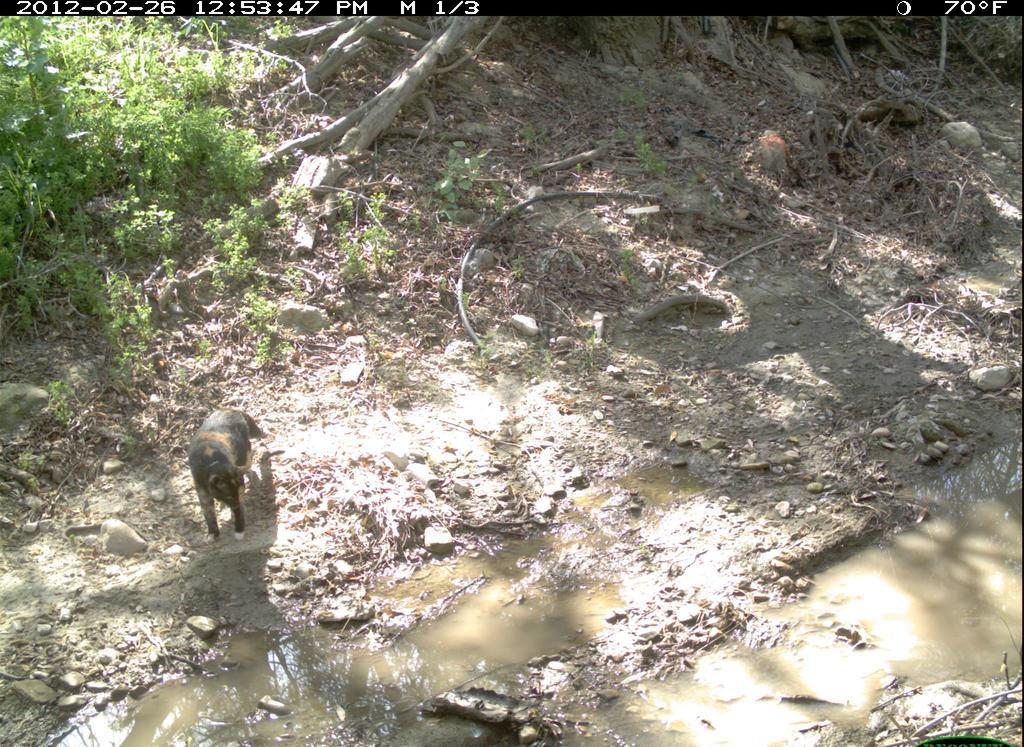cat: (183, 402, 273, 550)
